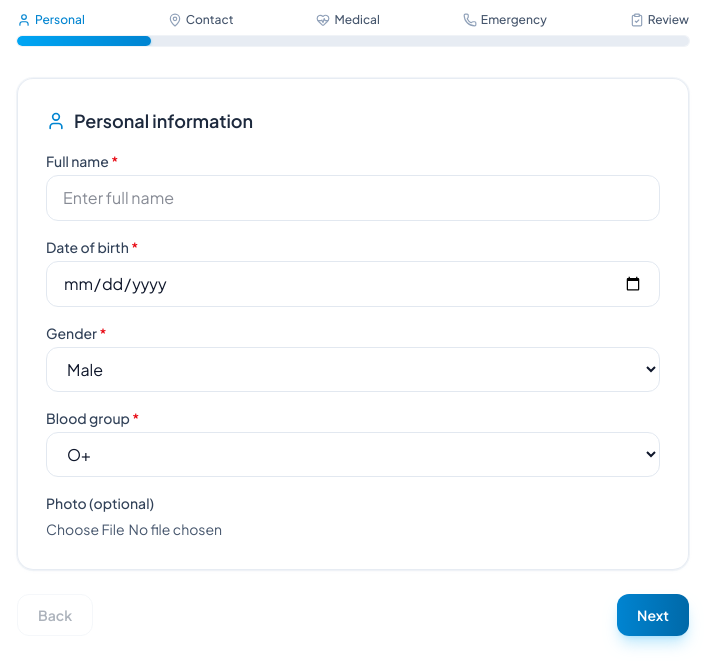
Scenario: PatientRegistrationForm › goes back to the previous step
Step 1. Type "Jane Doe" into the field labelled "Full name *" → x=353, y=198, box [46, 175, 660, 221]
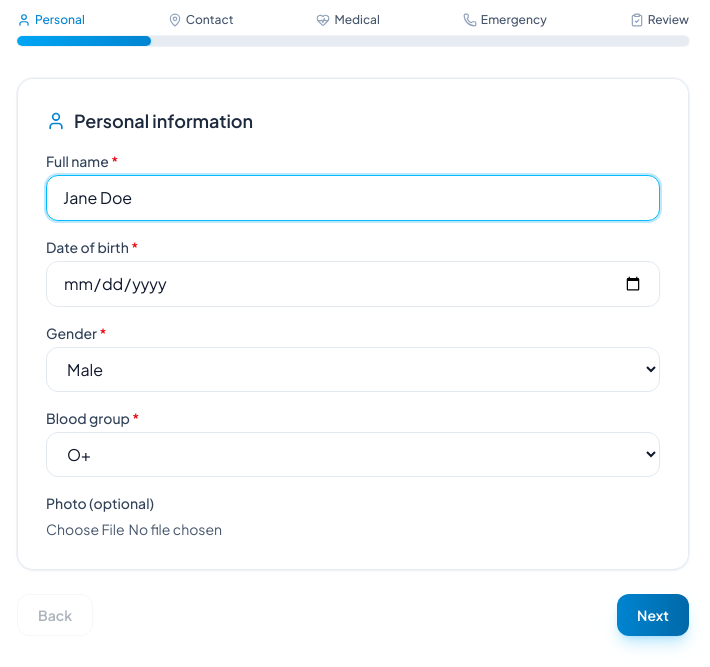
Step 2. Type "1990-06-15" into the date field labelled "Date of birth *" → x=353, y=284, box [46, 261, 660, 307]
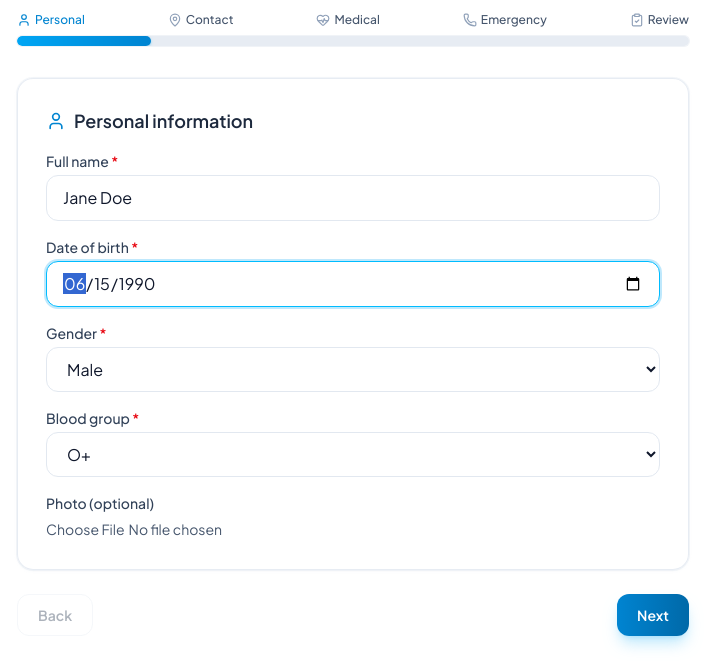
Step 3. Select "A+" in the dropdown labelled "Blood group *" → x=353, y=454, box [46, 432, 660, 477]
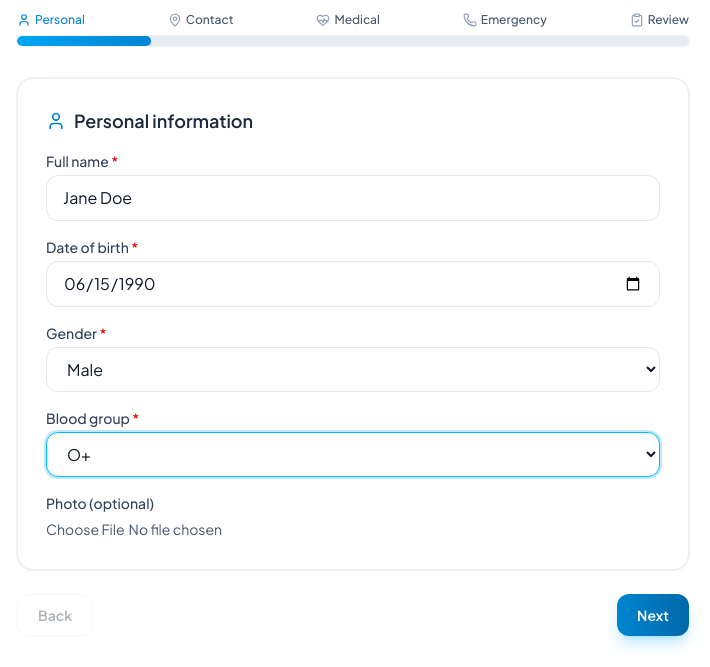
Step 4. Click the button "Next" → x=653, y=615, box [617, 594, 689, 636]
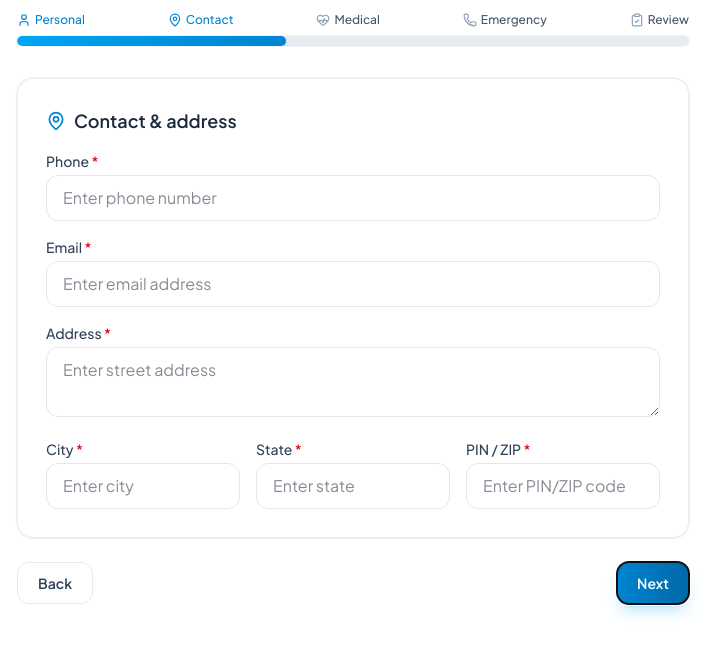
Result: the heading "Contact & address" is shown at [46, 109, 237, 132]
Step 5. Click the button "Back" → x=55, y=583, box [17, 562, 93, 604]
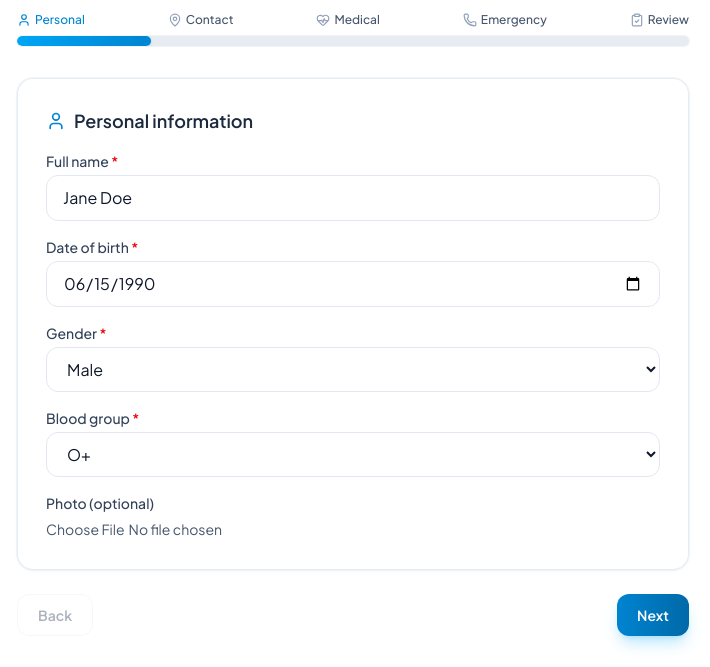
Result: the heading "Personal information" is shown at [46, 109, 253, 132]
